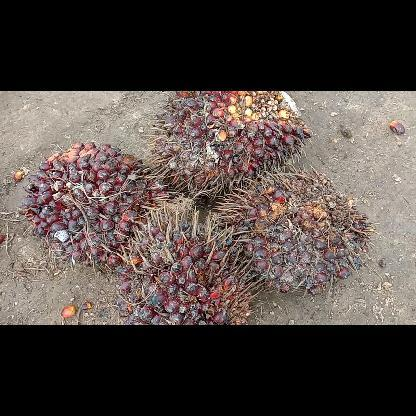TBS masak: (211, 165, 379, 295), (19, 142, 167, 270), (144, 91, 312, 195), (116, 206, 260, 324)
